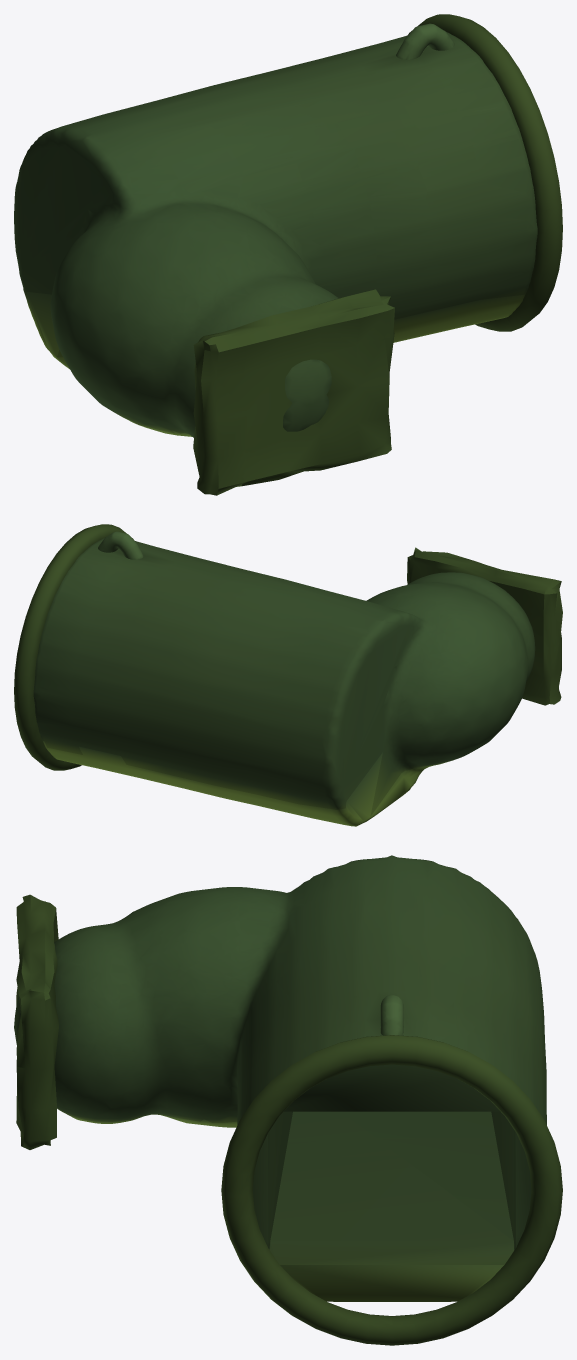
File: mire_drowned_boot.glb
3 views of the same model, one above another, from view 1: azimuth 30°, elevation 25°; view 2: azimuth 150°, elevation 25°; view 3: azimuth 270°, elevation 25° (orthographic). The views are drawn at different scales.
Visible parts, largest first — view 1: mire_drowned_boot; view 2: mire_drowned_boot; view 3: mire_drowned_boot.
Boxes of the visible parts, bbox=[...] form: mire_drowned_boot: bbox=[14, 14, 562, 495]; mire_drowned_boot: bbox=[14, 524, 562, 826]; mire_drowned_boot: bbox=[14, 855, 562, 1345].
Size of the model in its own units: 11.99 by 7.21 by 11.15.
